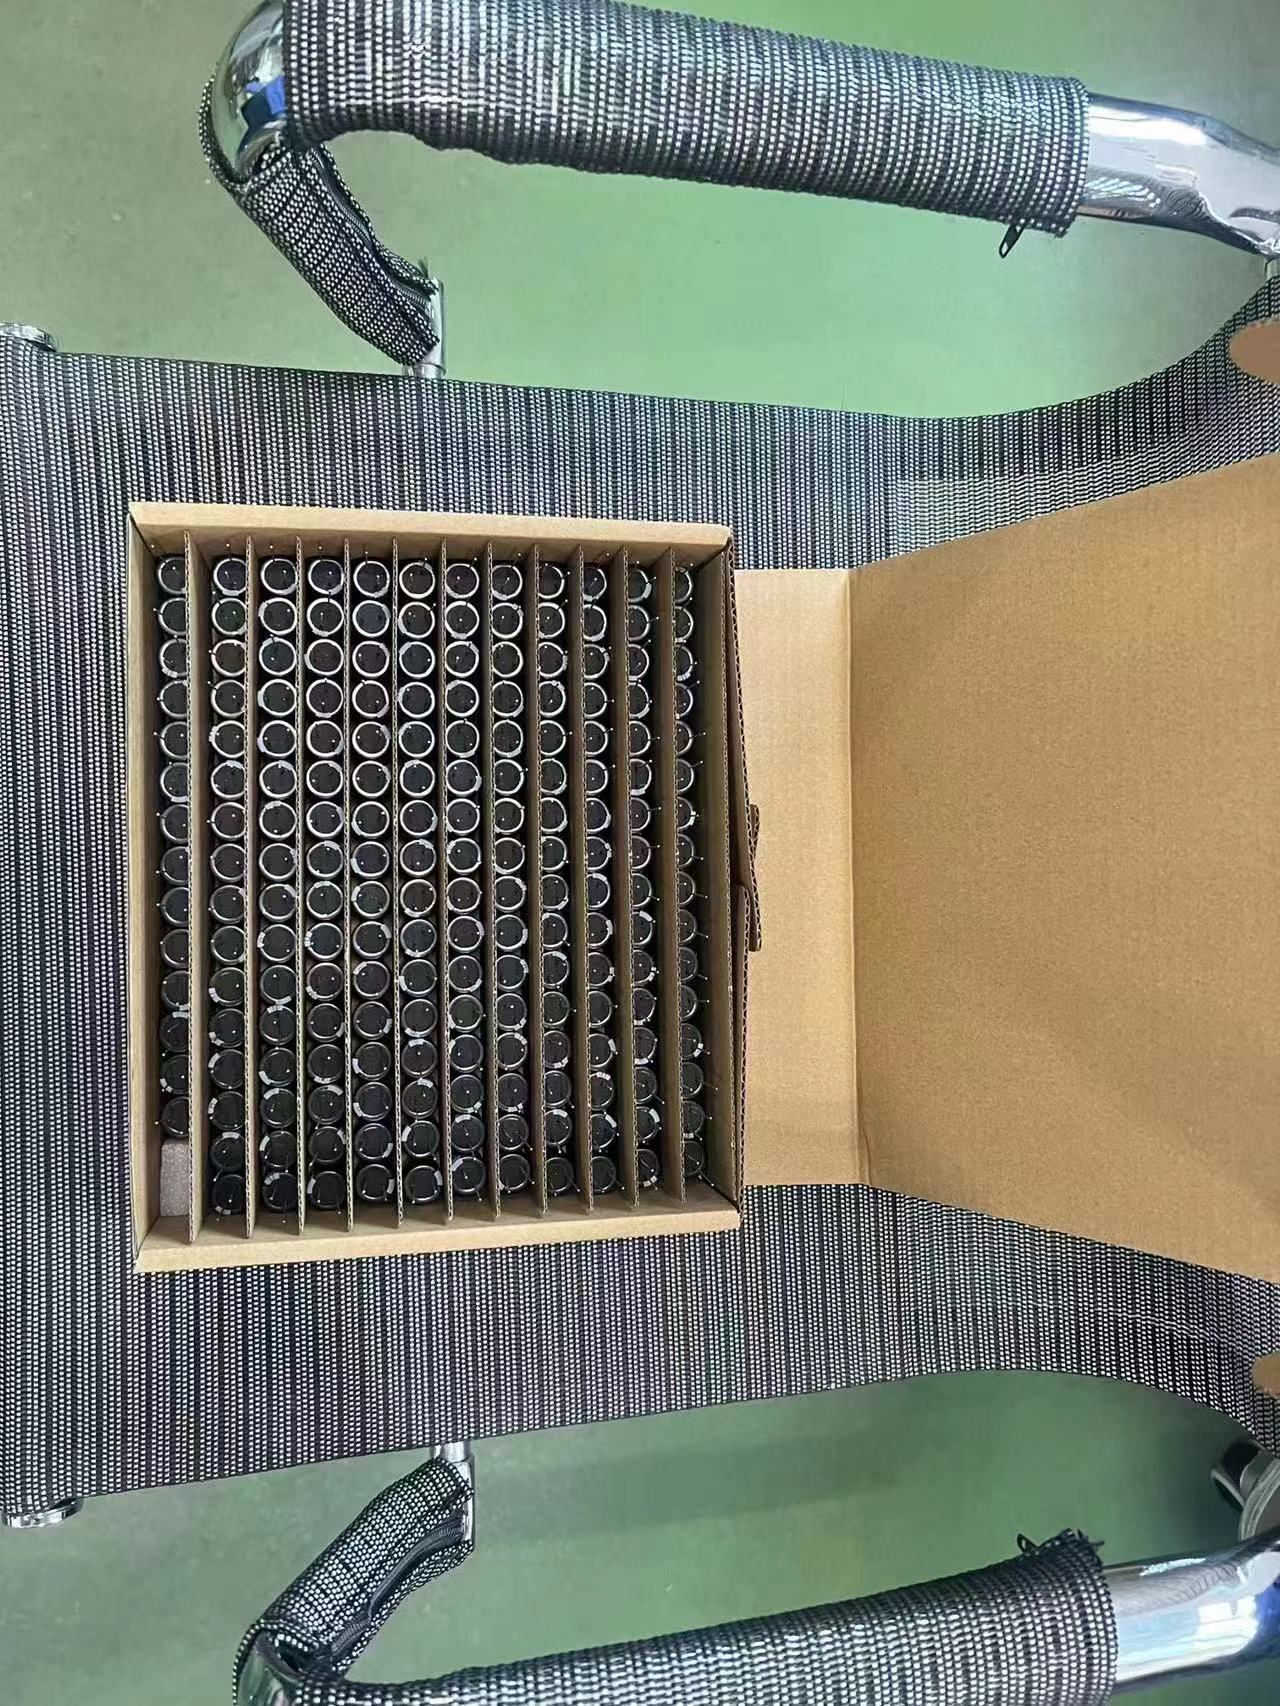battery: (514, 1330, 577, 1399), (514, 1262, 575, 1334), (585, 1190, 647, 1261), (364, 1322, 425, 1393), (592, 1330, 656, 1395), (364, 1258, 426, 1327), (211, 1123, 272, 1192), (290, 1327, 350, 1398), (441, 1260, 500, 1331), (438, 989, 500, 1057), (666, 1264, 725, 1334), (364, 1054, 428, 1119), (437, 1192, 497, 1260), (652, 932, 713, 999), (286, 1188, 346, 1257), (130, 979, 190, 1047), (433, 1124, 496, 1187), (514, 1127, 574, 1192), (585, 1123, 645, 1188), (589, 1262, 649, 1328), (137, 1326, 191, 1399), (212, 1331, 270, 1399), (446, 1330, 502, 1401), (510, 1196, 571, 1260), (584, 1059, 644, 1124), (212, 1057, 272, 1123), (368, 988, 426, 1055), (662, 1128, 719, 1195), (136, 1114, 188, 1188), (664, 1196, 719, 1266), (364, 922, 428, 983), (364, 1186, 424, 1250), (671, 1335, 725, 1405), (298, 669, 360, 730), (440, 1059, 499, 1123), (366, 1124, 424, 1188), (739, 1194, 793, 1262), (739, 1261, 793, 1330), (656, 687, 717, 747), (657, 624, 717, 686), (514, 805, 575, 864), (510, 998, 571, 1057), (292, 989, 350, 1053), (510, 1063, 573, 1121), (586, 928, 644, 991), (289, 1057, 346, 1121), (733, 1061, 788, 1127), (816, 1260, 870, 1327), (233, 547, 292, 608), (446, 555, 506, 616), (140, 1252, 188, 1326), (584, 998, 644, 1057), (226, 669, 284, 731), (368, 799, 430, 856), (440, 930, 502, 988), (442, 864, 499, 928), (138, 851, 194, 916), (662, 1063, 717, 1128), (247, 364, 307, 423), (304, 547, 364, 605), (442, 739, 503, 797), (514, 933, 571, 993), (371, 860, 428, 922), (727, 934, 784, 996), (515, 864, 570, 928), (804, 1059, 859, 1123), (221, 989, 274, 1054), (659, 999, 713, 1063), (803, 930, 856, 995), (141, 916, 194, 981), (811, 1192, 863, 1258), (748, 1330, 799, 1397), (456, 430, 514, 489), (664, 441, 721, 501), (214, 1195, 270, 1256), (298, 796, 354, 858), (516, 741, 571, 803), (376, 667, 430, 730), (879, 934, 932, 999), (820, 1327, 869, 1397), (808, 1125, 859, 1191), (662, 503, 719, 561), (446, 618, 504, 676), (586, 621, 644, 679), (378, 547, 437, 604), (731, 561, 788, 620), (376, 610, 436, 667), (592, 558, 647, 618), (294, 860, 350, 921), (586, 804, 641, 864), (588, 867, 643, 928), (218, 928, 272, 989), (659, 870, 713, 932), (804, 996, 856, 1059), (969, 1327, 1016, 1397), (894, 1334, 944, 1399), (524, 436, 581, 493), (229, 609, 285, 667), (293, 924, 350, 981), (442, 678, 499, 735), (584, 745, 641, 801), (444, 804, 502, 860), (453, 493, 508, 553), (660, 565, 715, 624), (225, 797, 280, 856), (801, 684, 856, 743), (524, 496, 578, 557), (729, 621, 783, 682), (588, 680, 641, 741), (729, 868, 781, 930), (530, 376, 586, 433), (666, 384, 723, 440), (594, 436, 649, 493), (727, 686, 783, 743), (656, 811, 711, 868), (519, 618, 573, 678), (657, 749, 711, 808), (227, 734, 280, 795), (731, 999, 784, 1059), (890, 1266, 940, 1330), (600, 376, 656, 432), (737, 384, 793, 440), (463, 371, 516, 429), (300, 735, 354, 793), (292, 1260, 346, 1317), (516, 683, 574, 737), (289, 1123, 342, 1182), (376, 733, 429, 792), (883, 1131, 930, 1196), (800, 621, 851, 682), (737, 1131, 787, 1192), (138, 1187, 187, 1250), (879, 1067, 928, 1131), (800, 747, 855, 803), (239, 488, 293, 544), (311, 487, 364, 543), (522, 562, 575, 618), (304, 610, 358, 667), (243, 425, 296, 483), (804, 441, 856, 499), (730, 747, 783, 805), (804, 561, 854, 621), (873, 626, 922, 687), (891, 1196, 934, 1266), (879, 1003, 926, 1066), (387, 428, 441, 483), (219, 864, 273, 920), (390, 367, 446, 419), (593, 497, 645, 554), (317, 423, 367, 483), (385, 483, 434, 542), (801, 809, 851, 868), (965, 1261, 1010, 1327), (805, 868, 852, 930), (964, 1192, 1007, 1260), (734, 444, 787, 499), (879, 872, 925, 936), (734, 501, 785, 558), (873, 754, 924, 811), (731, 809, 783, 866), (805, 501, 855, 559), (873, 566, 922, 624), (878, 813, 926, 872), (961, 1131, 1007, 1192), (141, 1053, 187, 1113), (808, 384, 861, 437), (321, 364, 372, 418), (953, 872, 998, 934), (956, 1002, 1000, 1063), (878, 508, 925, 566), (875, 690, 920, 750), (959, 1063, 1000, 1127), (949, 565, 994, 624), (878, 390, 926, 444), (951, 749, 996, 805), (951, 811, 992, 872), (879, 449, 922, 508), (948, 505, 991, 565), (951, 446, 994, 504), (951, 389, 994, 444), (952, 687, 991, 747), (959, 937, 998, 998), (951, 624, 987, 684)
